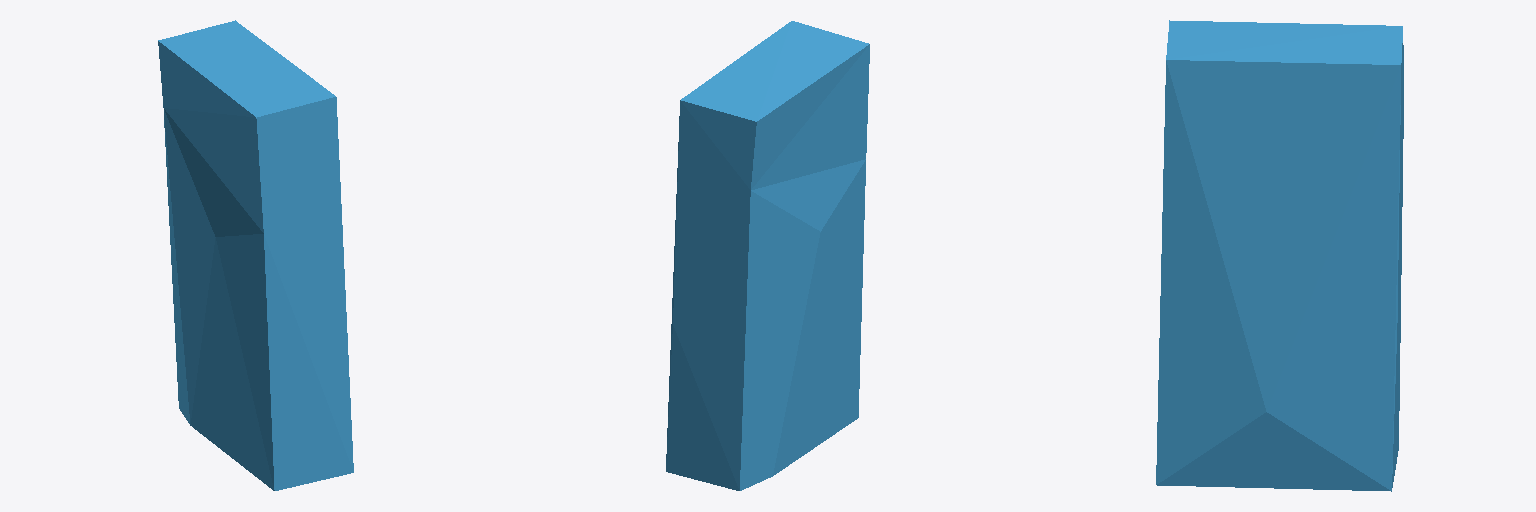
robot.urdf — sugar_box:
<?xml version="1.0" ?>
<robot name="sugar_box">
	<link name="pose_pub"/>
	<link name="sugar_box">
		<visual>
			<origin xyz = "0 0 0"/>
			<geometry>
				<mesh filename="package://objects_description/sugar_box_simp/sugar_box_simp.obj" />
			</geometry>
		</visual>
		<collision>
			<origin xyz="0 0 0"/>
			<geometry>
				<mesh filename="package://objects_description/sugar_box_simp/sugar_box_simp.obj" />
			</geometry>
		</collision>
		<inertial>
			<mass value="1.2"/>
			<inertia ixx="0.0" ixy="0.0" ixz="0.0" iyy="0.0" iyz="0.0" izz="0.04" />
		</inertial>
	</link>
	<joint name="joint_0" type="fixed">
		<origin rpy="0 0 0" xyz="0 0 0"/>
		<child link="pose_pub"/>
		<parent link="sugar_box"/>
	</joint>
</robot>

--- Facts derived from the render (not from the file) ---
3 views of the same robot in one strip: view 1: azimuth 30°, elevation 25°; view 2: azimuth 150°, elevation 25°; view 3: azimuth 270°, elevation 25° (orthographic).
Robot: sugar_box — 2 links, 1 joints (1 fixed); root link sugar_box; default pose: all joints at 0.
Visible links, largest first — view 1: sugar_box; view 2: sugar_box; view 3: sugar_box.
Link boxes in pixels (box(x1,y1,x2,y2)): sugar_box: box(158, 20, 353, 490); sugar_box: box(666, 21, 869, 490); sugar_box: box(1156, 20, 1403, 491).
Bounding box of the posed robot: 0.0498 × 0.0933 × 0.1747 m (x, y, z).
Meshes: 1 distinct files referenced, 1 mesh visuals loaded (1 OBJ).